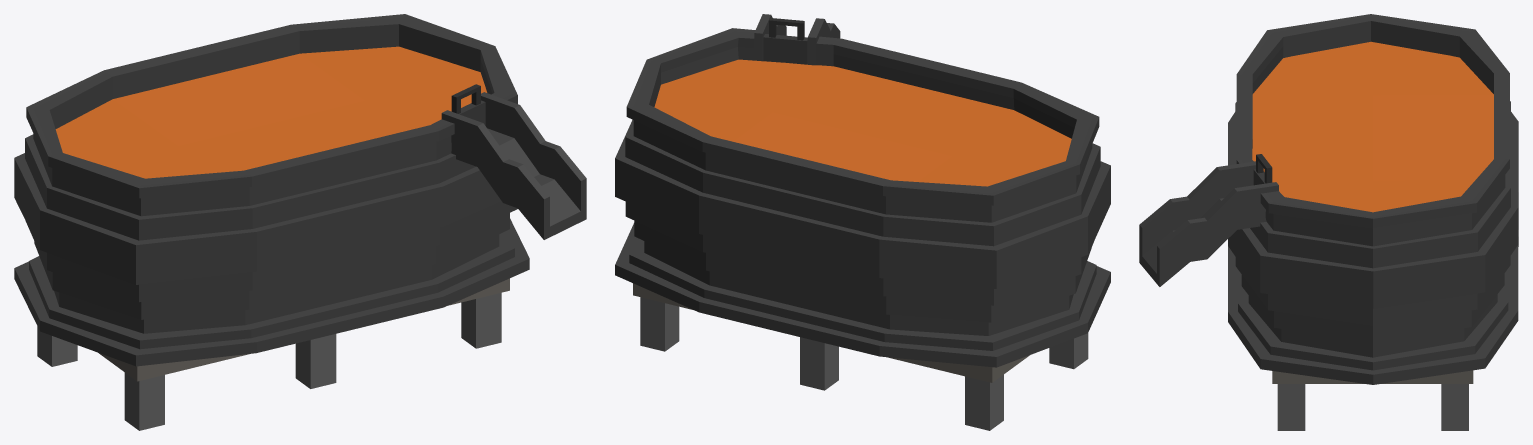
Rendered from boiler_level_3.fbx.
3 views of the same model, side by side, from view 1: azimuth 30°, elevation 25°; view 2: azimuth 150°, elevation 25°; view 3: azimuth 270°, elevation 25° (orthographic). The views are drawn at different scales.
Visible parts, largest first — view 1: Cube.011, Cube.013; view 2: Cube.011, Cube.013; view 3: Cube.011, Cube.013.
Boxes of the visible parts, x1,y1,x2,y2 form: Cube.011: (14, 14, 586, 430); Cube.013: (451, 84, 485, 125); Cube.011: (615, 14, 1110, 430); Cube.013: (763, 18, 807, 64); Cube.011: (1139, 14, 1518, 430); Cube.013: (1253, 154, 1272, 185).
Bounding box in the file's own units: 261 × 143 × 197.
